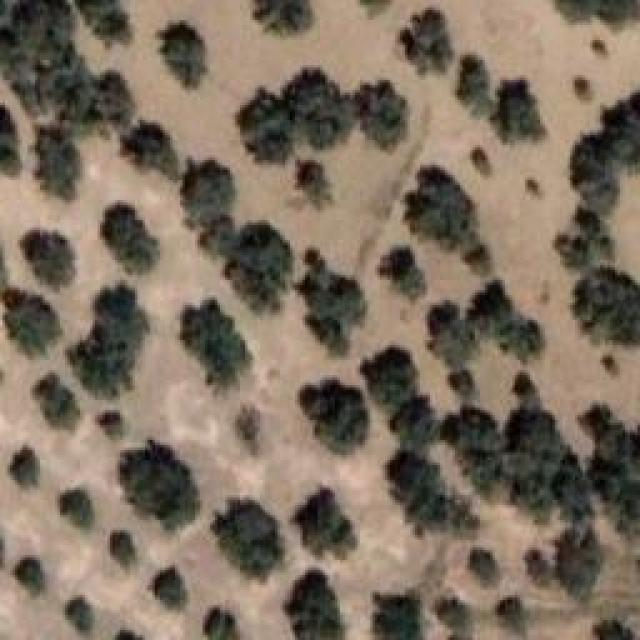Tree: (68, 280, 143, 396), (118, 443, 194, 525), (570, 265, 639, 343), (210, 500, 278, 579), (410, 166, 477, 246), (182, 300, 247, 382), (473, 280, 542, 357), (230, 220, 294, 298), (295, 485, 361, 560), (553, 518, 606, 611), (285, 565, 350, 640), (100, 198, 163, 275), (295, 70, 357, 142), (393, 7, 453, 81), (298, 378, 364, 445), (233, 85, 289, 157), (298, 258, 364, 319), (48, 43, 103, 116), (425, 297, 484, 365), (0, 282, 56, 353), (553, 210, 617, 272), (360, 75, 410, 153), (490, 78, 545, 146), (30, 120, 80, 192), (458, 440, 517, 500), (123, 120, 183, 178), (182, 155, 235, 219), (595, 460, 640, 535), (568, 143, 616, 212), (370, 345, 420, 411), (590, 400, 640, 463), (382, 245, 438, 301), (8, 3, 65, 58), (160, 17, 206, 82), (17, 228, 73, 281), (413, 493, 479, 537), (363, 588, 421, 638), (510, 415, 569, 464), (595, 93, 640, 157), (75, 0, 138, 45), (90, 70, 143, 123), (550, 458, 595, 519), (298, 313, 351, 358), (448, 408, 506, 448), (292, 158, 338, 207), (455, 65, 495, 121), (395, 445, 441, 491), (257, 0, 317, 34), (520, 470, 560, 520), (392, 395, 435, 441), (463, 543, 506, 589), (35, 375, 75, 424), (490, 595, 536, 635), (55, 482, 94, 527), (150, 568, 189, 613), (508, 373, 552, 411), (435, 590, 471, 635), (518, 548, 555, 591), (15, 553, 49, 599), (203, 215, 237, 260), (0, 105, 20, 178), (63, 595, 100, 634), (5, 446, 42, 484), (107, 520, 135, 569), (445, 363, 480, 397), (595, 610, 635, 639), (602, 0, 640, 30), (552, 0, 603, 22), (466, 240, 498, 274), (198, 610, 235, 639), (103, 404, 132, 438), (468, 148, 495, 184), (585, 33, 616, 61), (520, 170, 544, 205), (568, 73, 592, 102)
